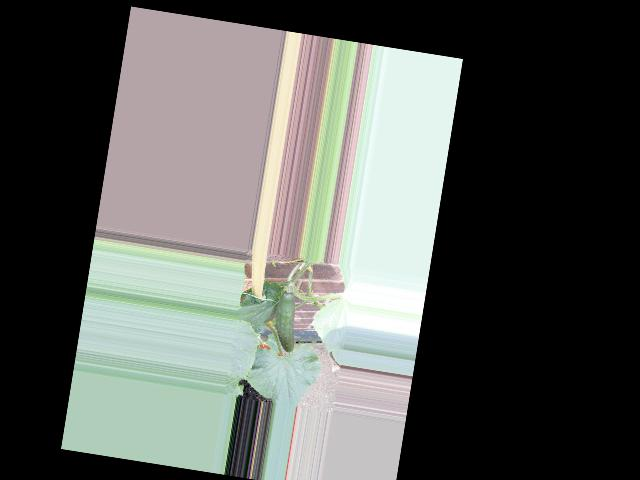cucumber: (270, 289, 303, 353)
